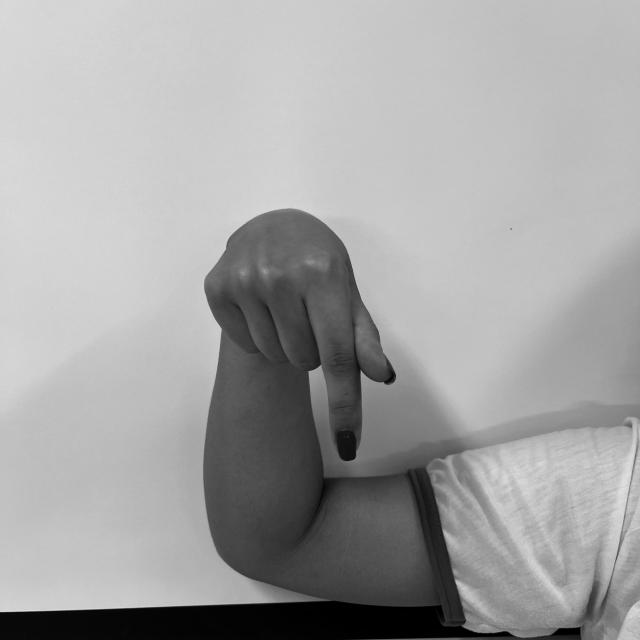Letra Q: (201, 192, 407, 467)
